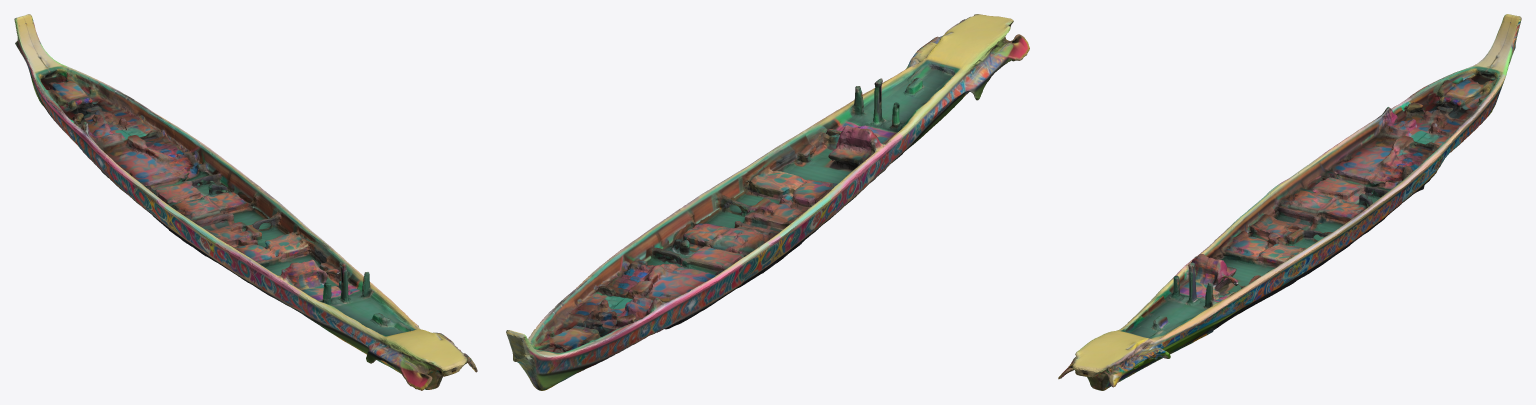
File: DragonBoat.obj
3 renders of one model, left to right at view 1: azimuth 30°, elevation 25°; view 2: azimuth 150°, elevation 25°; view 3: azimuth 330°, elevation 25°, orthographic. The views are drawn at different scales.
Visible parts, largest first — view 1: Object_0; view 2: Object_0; view 3: Object_0.
Boxes of the visible parts, left/top/right/bottom form: Object_0: left=14, top=14, right=477, bottom=390; Object_0: left=506, top=14, right=1029, bottom=390; Object_0: left=1058, top=14, right=1521, bottom=390.
Size of the model in its own units: 0.252 by 0.2078 by 1.99.
Materials: 1 (1 with a texture image).
